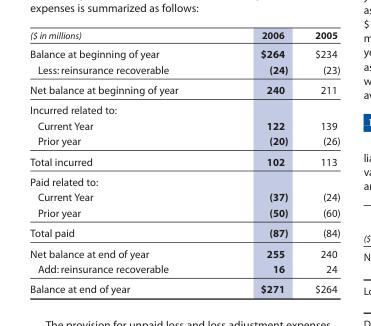table: (29, 29, 339, 295)
table column: (29, 29, 218, 295), (218, 29, 300, 295), (300, 29, 339, 295)
table column header: (29, 29, 339, 44)
table projected row header: (29, 171, 339, 189), (29, 100, 339, 117)
table row: (29, 79, 339, 100), (29, 222, 339, 243), (29, 151, 339, 171), (29, 61, 339, 79), (29, 133, 339, 151), (29, 171, 339, 189), (29, 204, 339, 222), (29, 260, 339, 278), (29, 44, 339, 61), (29, 100, 339, 117), (29, 243, 339, 260), (29, 278, 339, 295), (29, 117, 339, 133), (29, 29, 339, 44), (29, 189, 339, 204)
